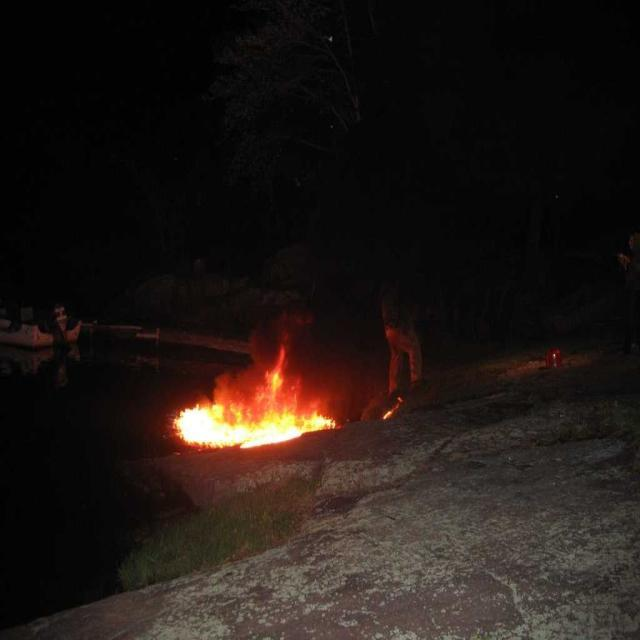Fire: (198, 394, 308, 454)
